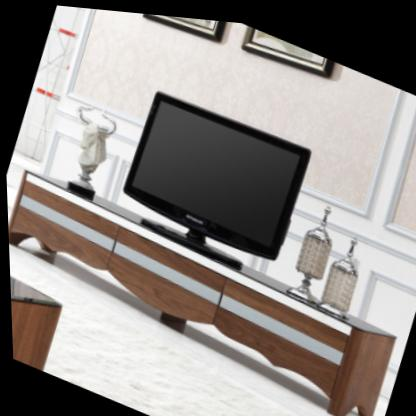TV stand: (7, 171, 392, 413)
